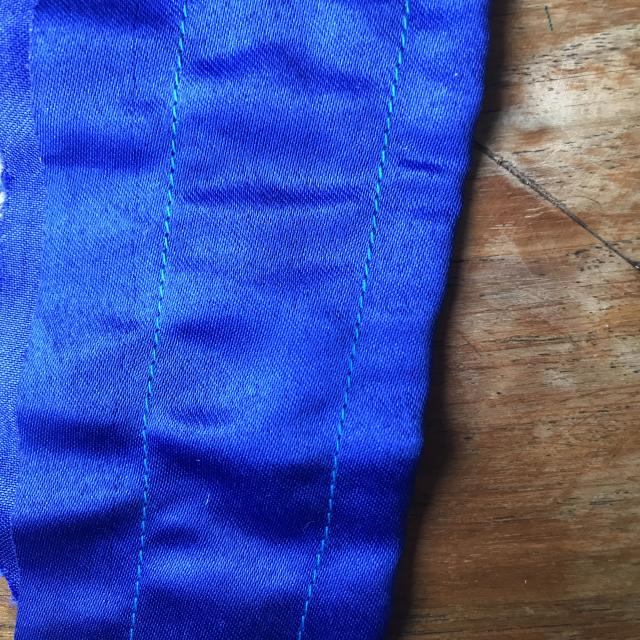good: (336, 248, 379, 400)
